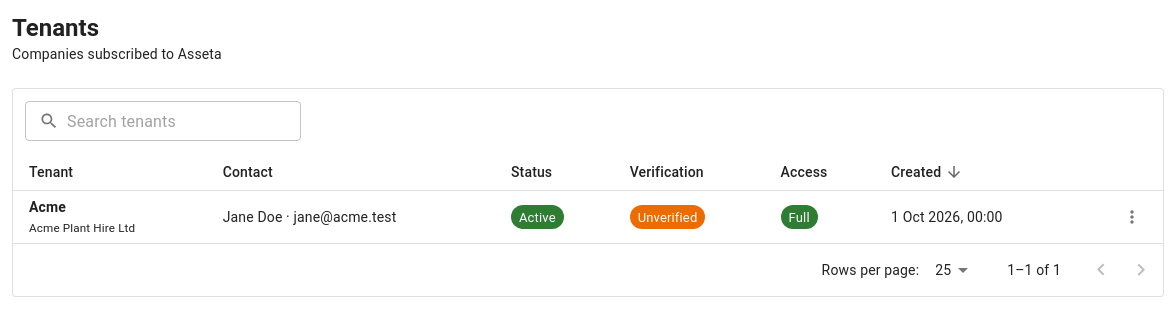
Scenario: tenant list row actions › offers only View details without platform.tenant.update
Click the button named "Actions for Acme" at (1132, 217), box [1117,202,1147,232]
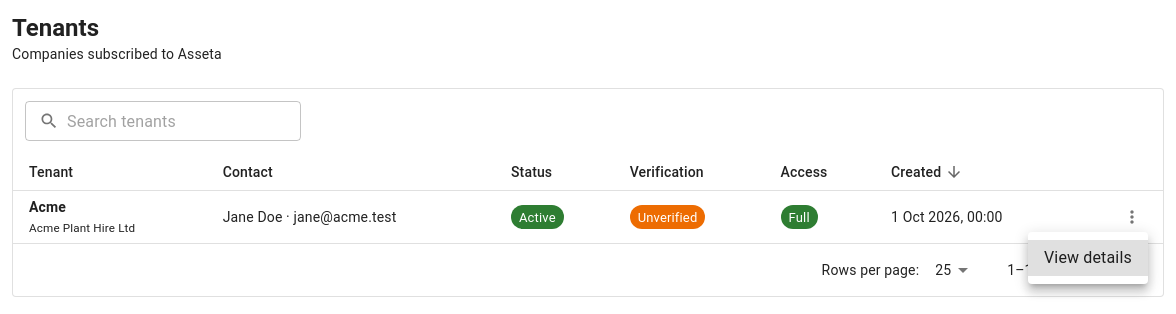
expect the menu item "View details" is shown: met, box [1028,240,1148,276]
